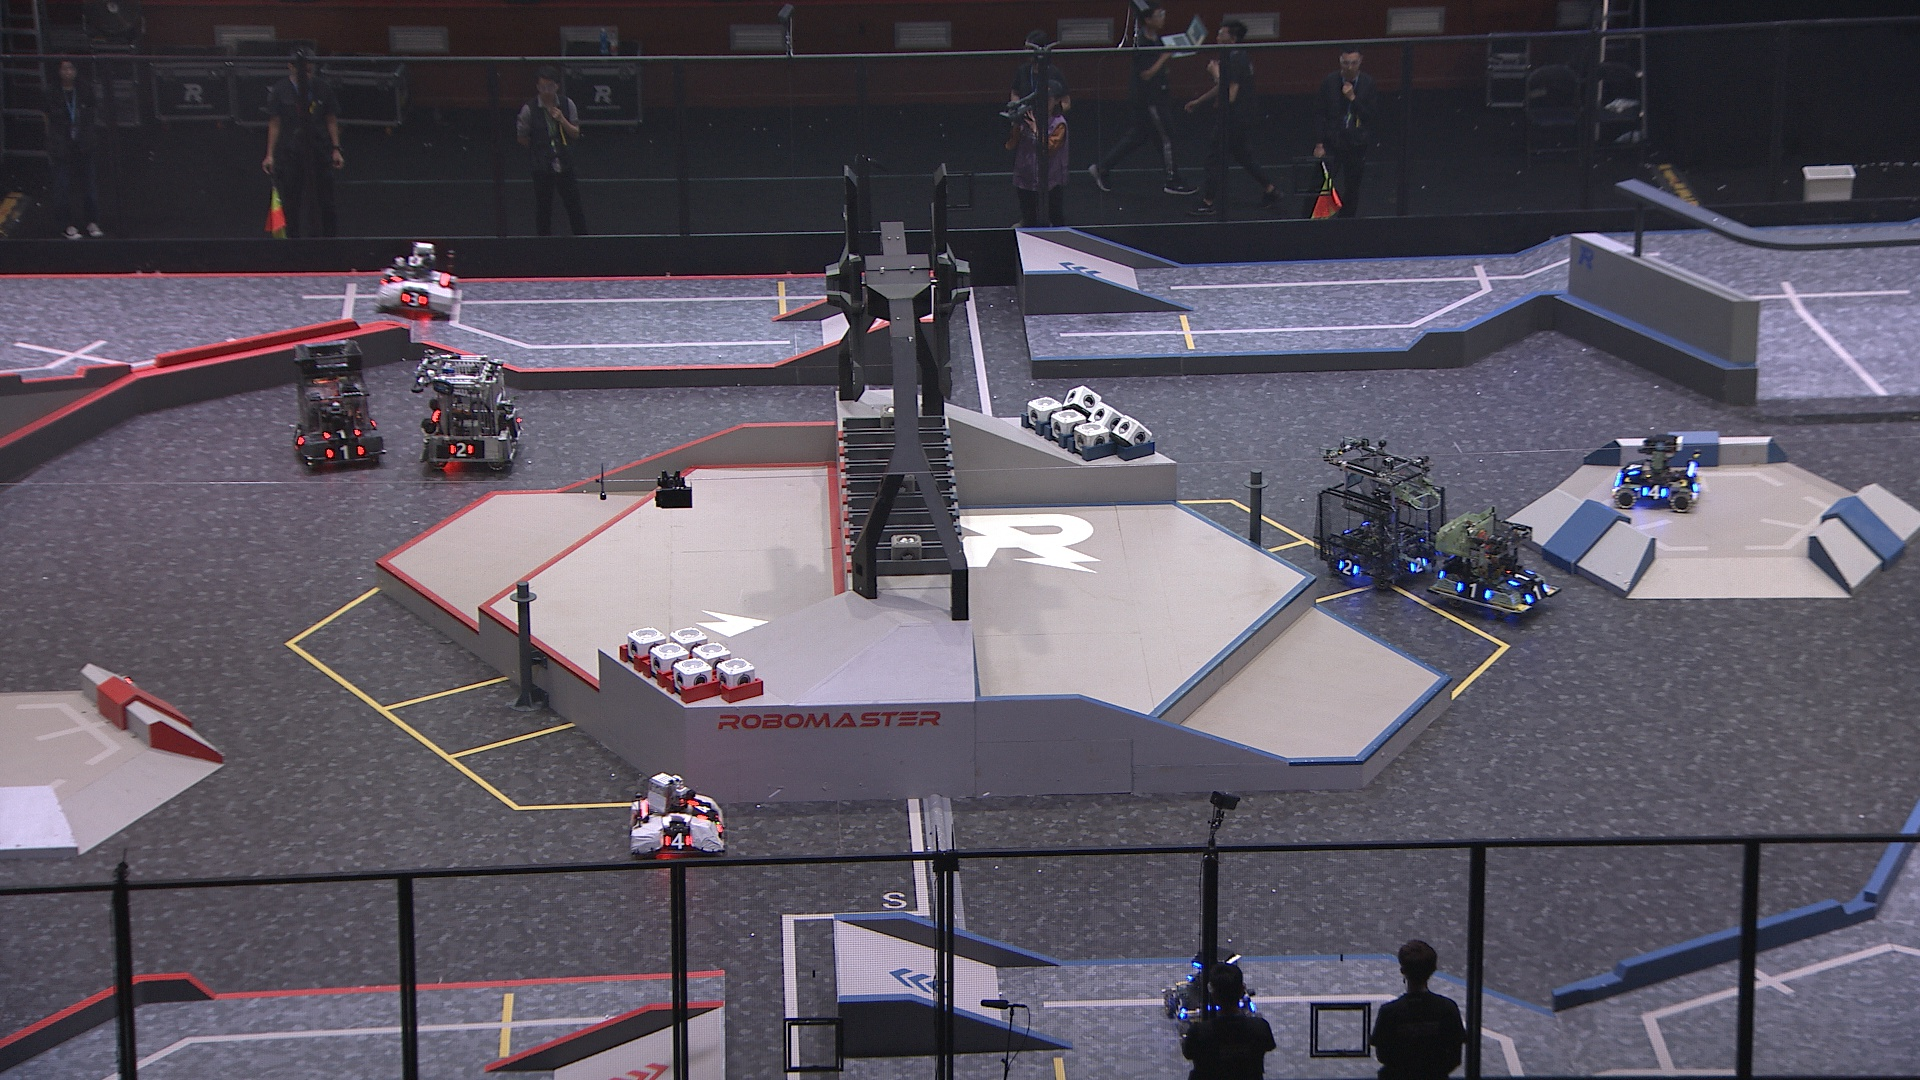armor: (1456, 582, 1494, 603), (324, 444, 367, 462), (400, 290, 433, 310), (448, 439, 476, 462), (1524, 584, 1552, 607), (665, 829, 694, 851), (1509, 566, 1534, 589), (1640, 483, 1669, 501), (1335, 559, 1364, 576), (323, 427, 363, 439), (1408, 556, 1432, 576), (1171, 996, 1189, 1021), (694, 799, 713, 820), (290, 427, 309, 450), (1622, 462, 1643, 479)
car: (1315, 439, 1449, 593), (1428, 509, 1563, 622), (413, 349, 524, 471), (289, 342, 386, 469), (624, 773, 727, 862), (1163, 949, 1263, 1040), (1613, 433, 1702, 513), (376, 237, 462, 320)
